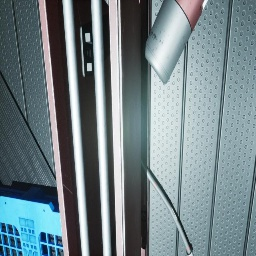NitrogenTank ,: (143, 0, 208, 84)
